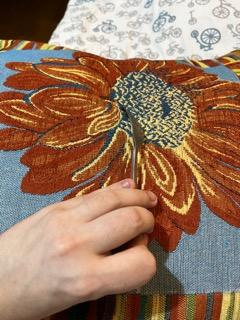fork: (114, 99, 149, 296)
